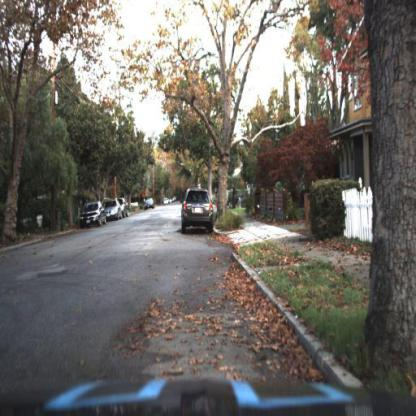car: (179, 188, 216, 238), (80, 199, 107, 230), (105, 199, 120, 224), (144, 197, 156, 212), (120, 199, 127, 220)
